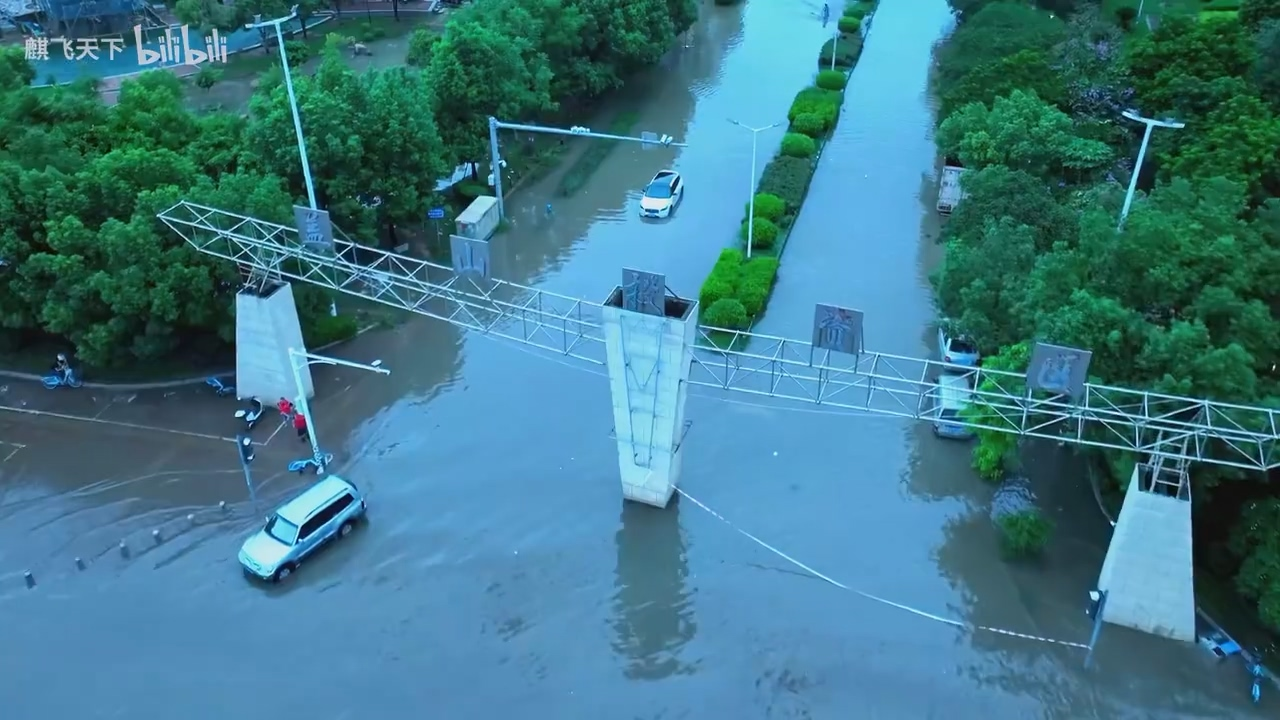puddle: (7, 427, 1109, 713), (612, 36, 947, 298)
